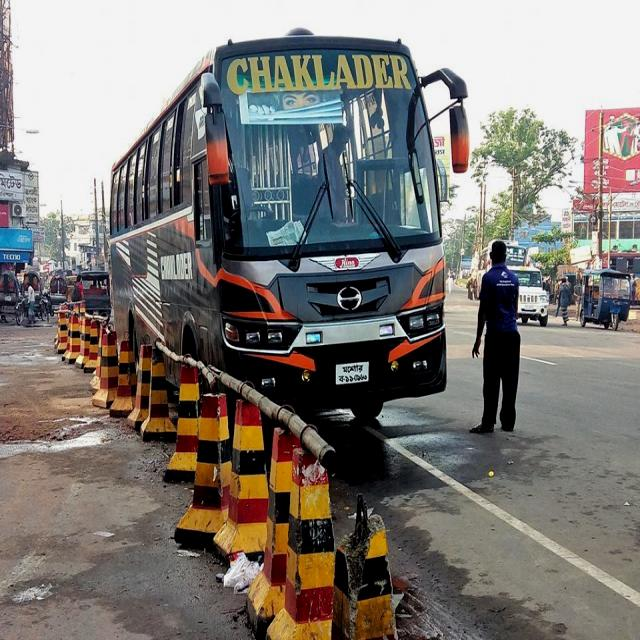bus: (109, 26, 474, 425)
